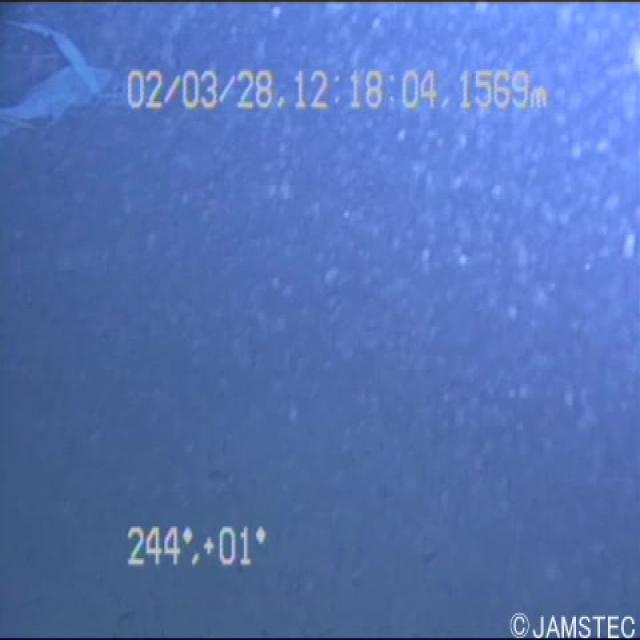plastic: (0, 14, 153, 145)
